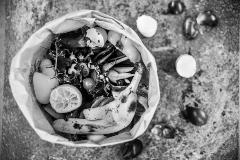organic: (183, 98, 215, 132), (172, 52, 204, 84), (31, 70, 57, 106), (50, 83, 80, 113), (132, 13, 160, 39), (156, 124, 184, 142), (86, 26, 108, 48), (182, 16, 196, 46)
